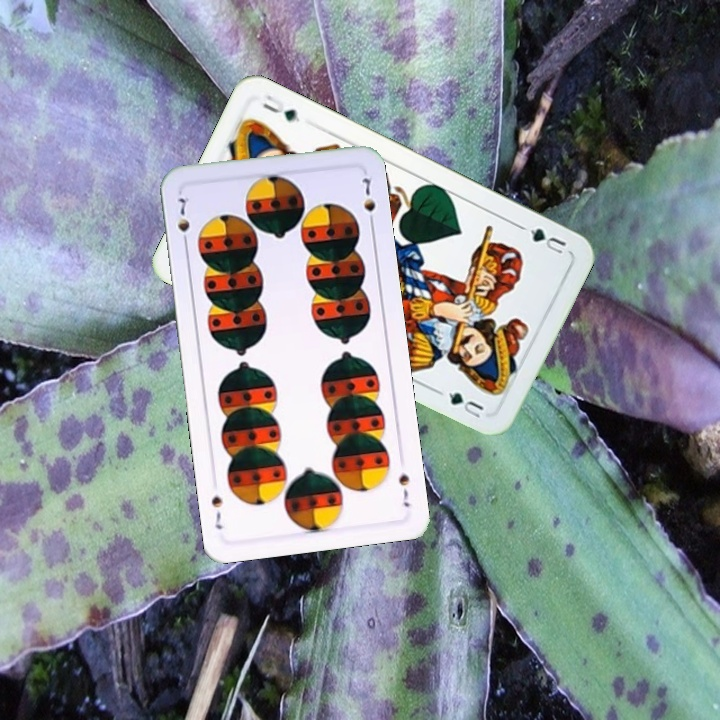GU: (516, 221, 569, 257)
S7: (173, 193, 193, 250), (394, 468, 413, 510)
